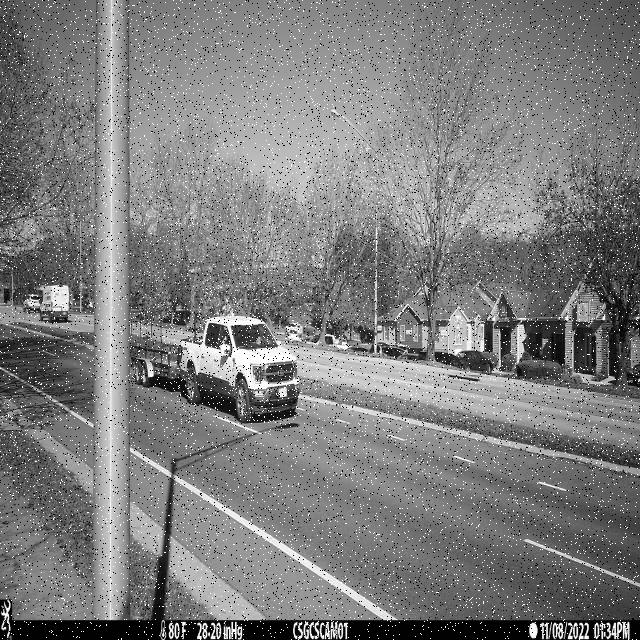Box Truck: (130, 310, 179, 387)
Pickup: (177, 315, 299, 423)
